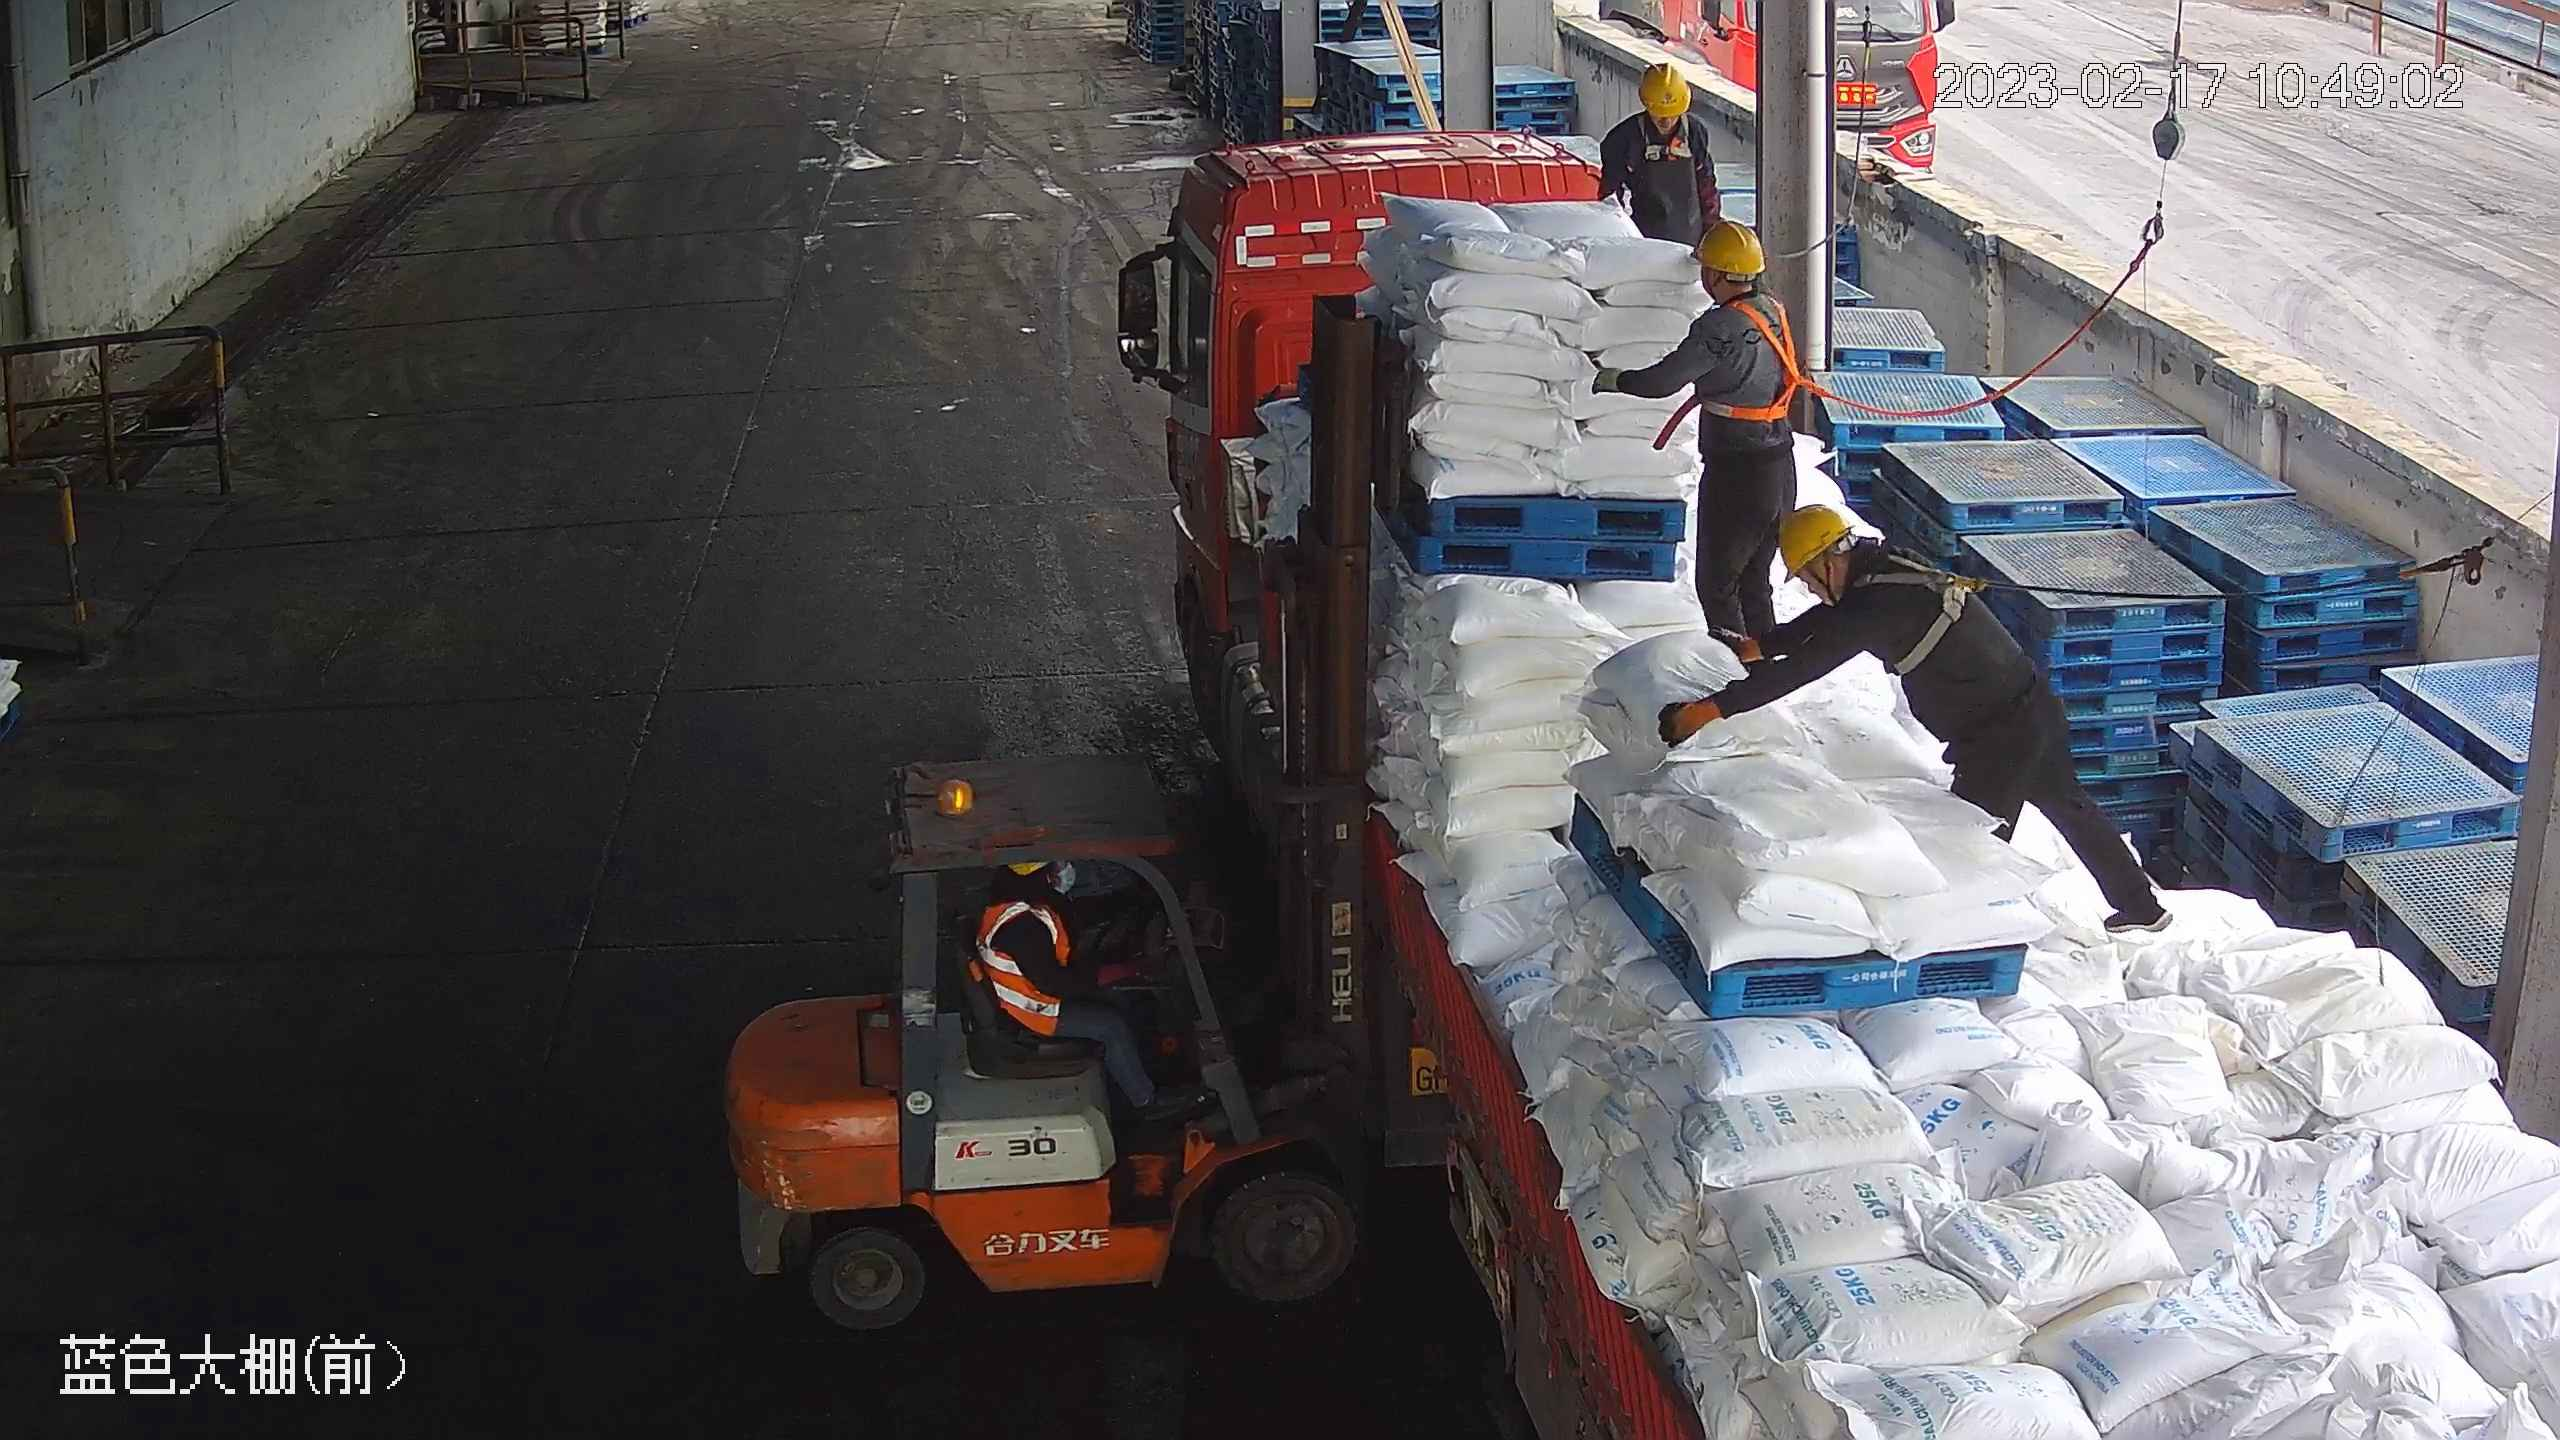belt: (1860, 550, 2001, 680), (1703, 294, 1820, 426), (1631, 106, 1696, 161)
head: (1777, 501, 1936, 627), (1678, 215, 1800, 357), (1607, 61, 1713, 155), (977, 863, 1074, 949)
helmet: (1775, 501, 1856, 586), (1688, 214, 1765, 276), (1638, 63, 1691, 118)
people: (1647, 505, 2165, 939), (1584, 214, 1809, 670), (970, 856, 1192, 1111), (1597, 59, 1723, 253)
truck: (1173, 150, 2557, 1439)
